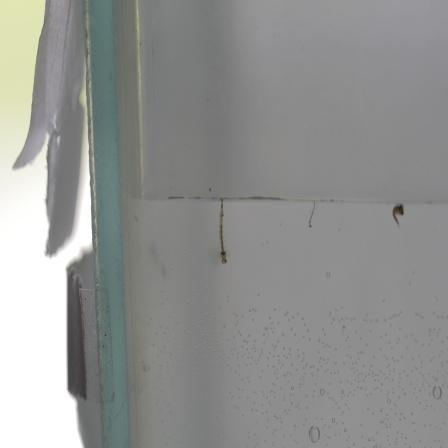Jentik-Nyamuk: (212, 194, 232, 267), (304, 199, 322, 232), (388, 201, 408, 227)
